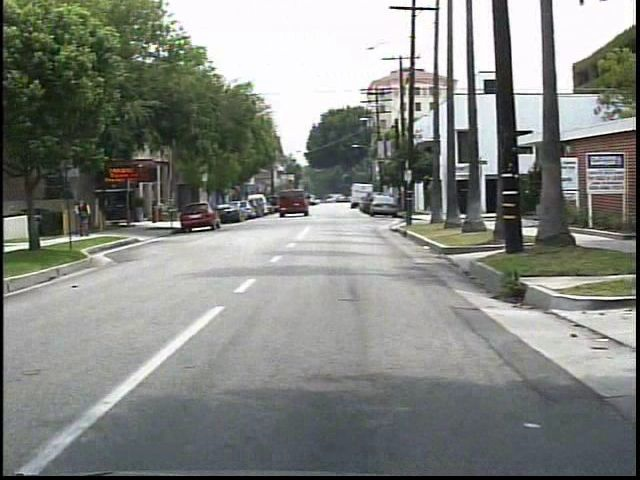person: (63, 192, 90, 239)
